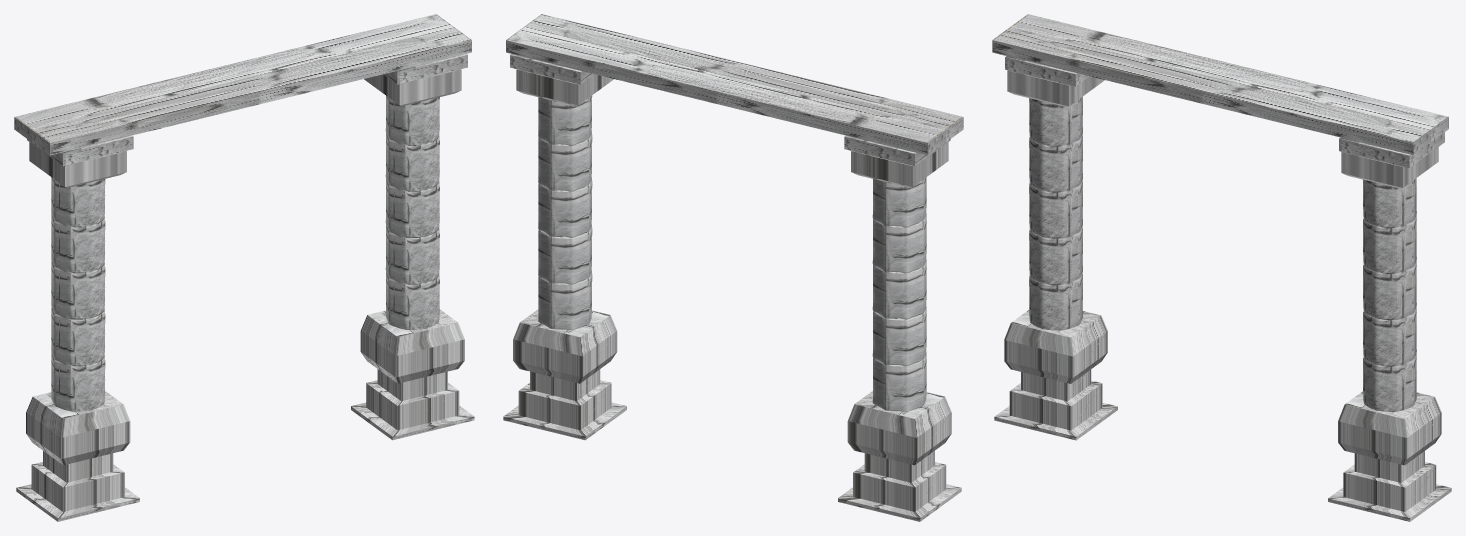
Rendered from StoneDoor_712.fbx.
The picture shows the model from 3 angles, left to right: view 1: azimuth 30°, elevation 25°; view 2: azimuth 150°, elevation 25°; view 3: azimuth 330°, elevation 25°; orthographic projection.
Visible parts, largest first — view 1: Cube; view 2: Cube; view 3: Cube.
Part boxes in pixels (x1,y1,x2,y2): Cube: [14, 14, 474, 521]; Cube: [503, 14, 963, 521]; Cube: [992, 14, 1451, 521].
Bounding box in the file's own units: 1364 × 1168 × 233.
2 materials, 2 textured.
